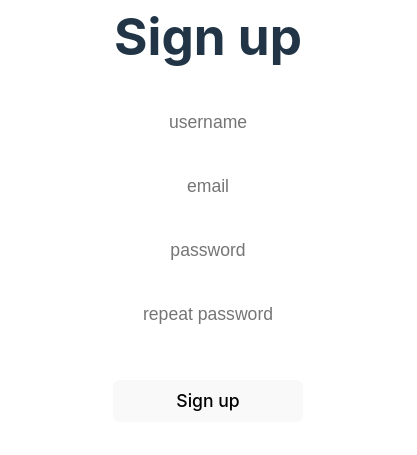
Test: SignUp component › shows validation error when email is empty but username filled
Type "user123" into the field with test id "username" at (208,123), box [16,99,400,147]
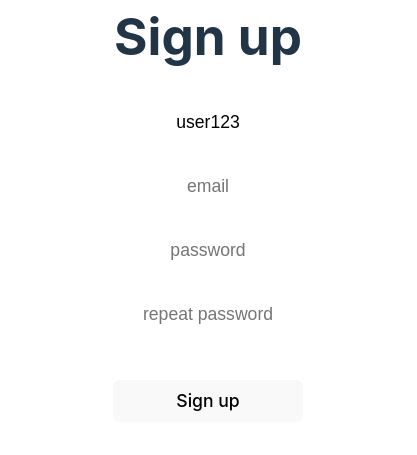
Click the button with test id "register-submit" at (208,401), box [112,379,304,423]
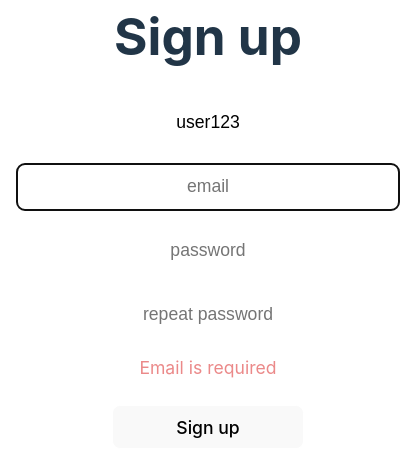
Expected: the text with test id "email-error" reads "Email is required", [139,357,277,378]
